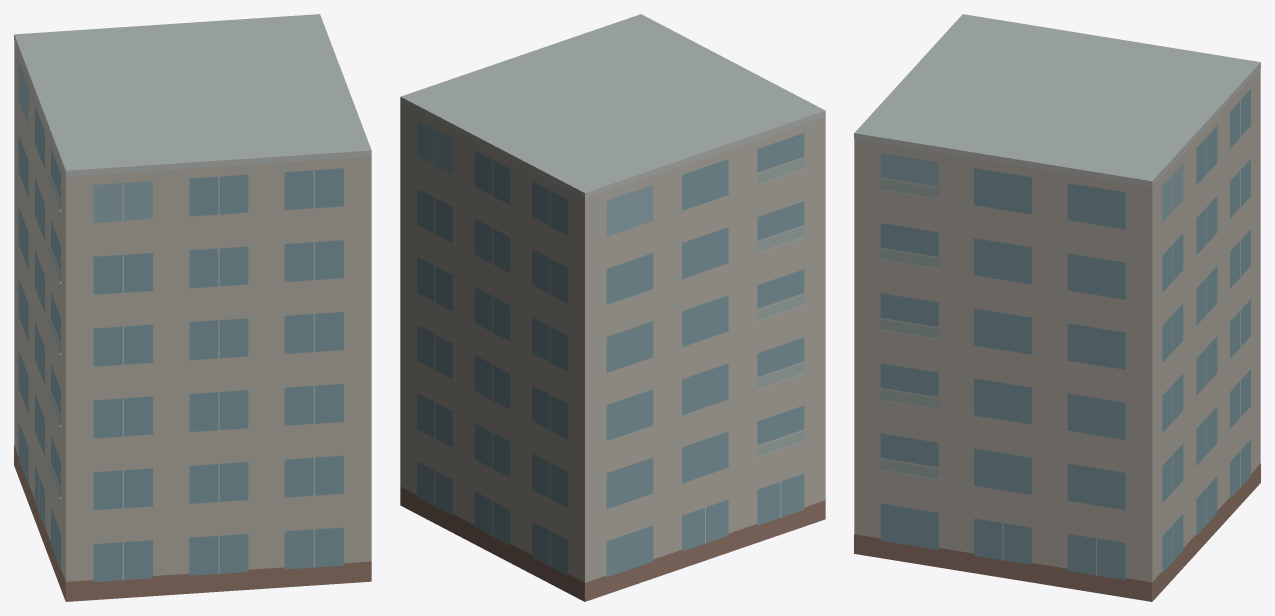
File: survey-upis-32671556.glb
The picture shows the model from 3 angles, left to right: view 1: azimuth 30°, elevation 25°; view 2: azimuth 150°, elevation 25°; view 3: azimuth 270°, elevation 25°; orthographic projection. The views are drawn at different scales.
Parts seen in each view (by area): view 1: survey-upis-32671556.tmp; view 2: survey-upis-32671556.tmp; view 3: survey-upis-32671556.tmp.
Part boxes in pixels (bbox=[...]): survey-upis-32671556.tmp: bbox=[14, 14, 371, 601]; survey-upis-32671556.tmp: bbox=[400, 14, 825, 601]; survey-upis-32671556.tmp: bbox=[854, 14, 1260, 601].
Size of the model in its own units: 14.59 by 17.1 by 14.99.
